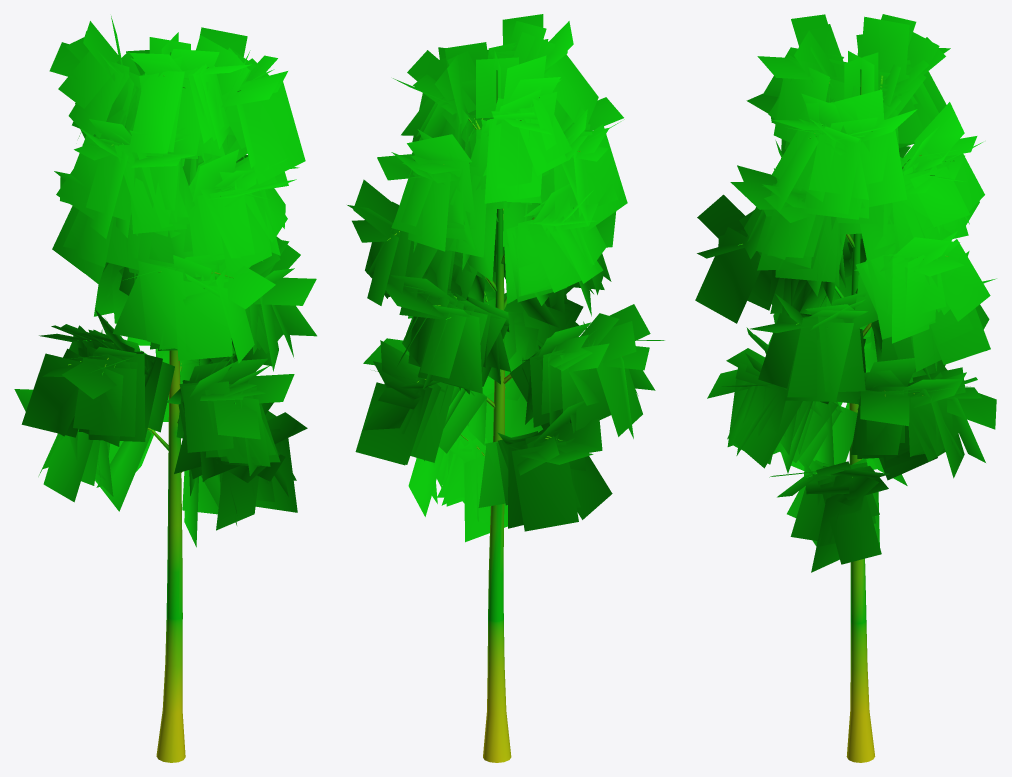
The model's file is tree_birch_b.glb.
3 renders of one model, left to right at view 1: azimuth 30°, elevation 25°; view 2: azimuth 150°, elevation 25°; view 3: azimuth 270°, elevation 25°, orthographic. The views are drawn at different scales.
Parts seen in each view (by area): view 1: tree_birch_b.1, tree_birch_b.0; view 2: tree_birch_b.1, tree_birch_b.0; view 3: tree_birch_b.1, tree_birch_b.0.
Part boxes in pixels (box(x1,y1,x2,y2)): tree_birch_b.1: box(14, 16, 316, 547); tree_birch_b.0: box(68, 52, 240, 762); tree_birch_b.1: box(347, 14, 664, 542); tree_birch_b.0: box(387, 70, 622, 762); tree_birch_b.1: box(695, 14, 996, 572); tree_birch_b.0: box(738, 69, 954, 762).
Size of the model in its own units: 5.48 by 14.7 by 5.6.
